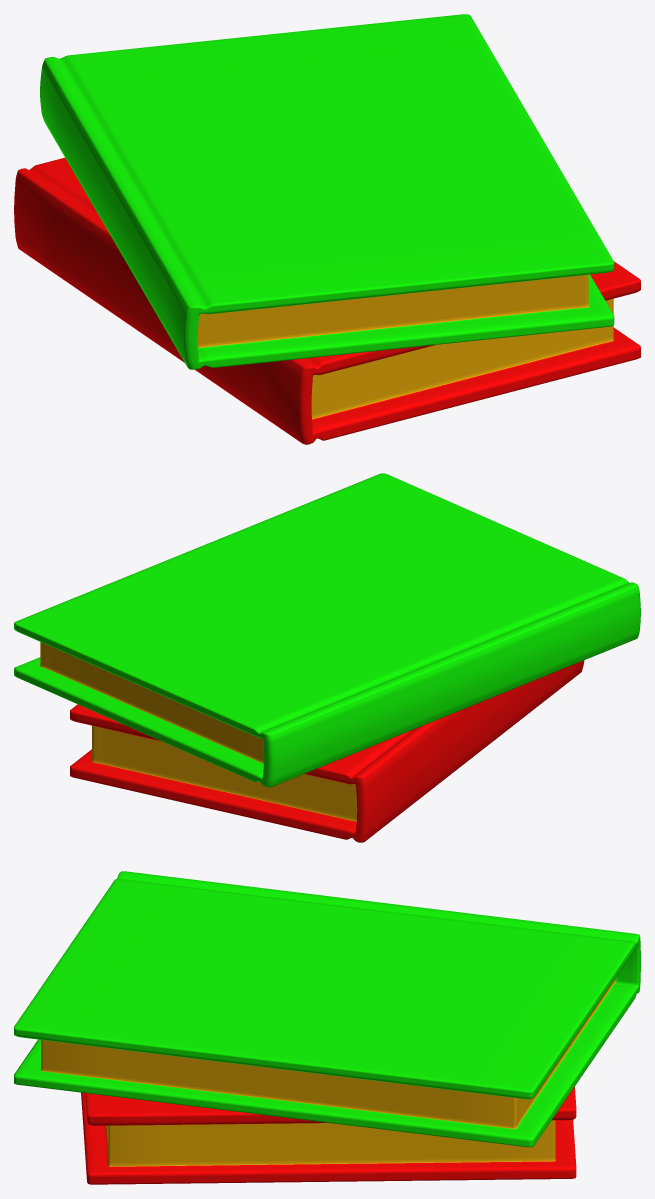
Rendered from SM_Book01.FBX.
The picture shows the model from 3 angles, top to bottom: view 1: azimuth 30°, elevation 25°; view 2: azimuth 150°, elevation 25°; view 3: azimuth 270°, elevation 25°; orthographic projection. The views are drawn at different scales.
Parts seen in each view (by area): view 1: book04; view 2: book04; view 3: book04.
Boxes of the visible parts, bbox=[...] form: book04: bbox=[14, 14, 640, 444]; book04: bbox=[14, 473, 640, 842]; book04: bbox=[14, 871, 640, 1184].
Bounding box in the file's own units: 19.28 × 5.14 × 22.95.
